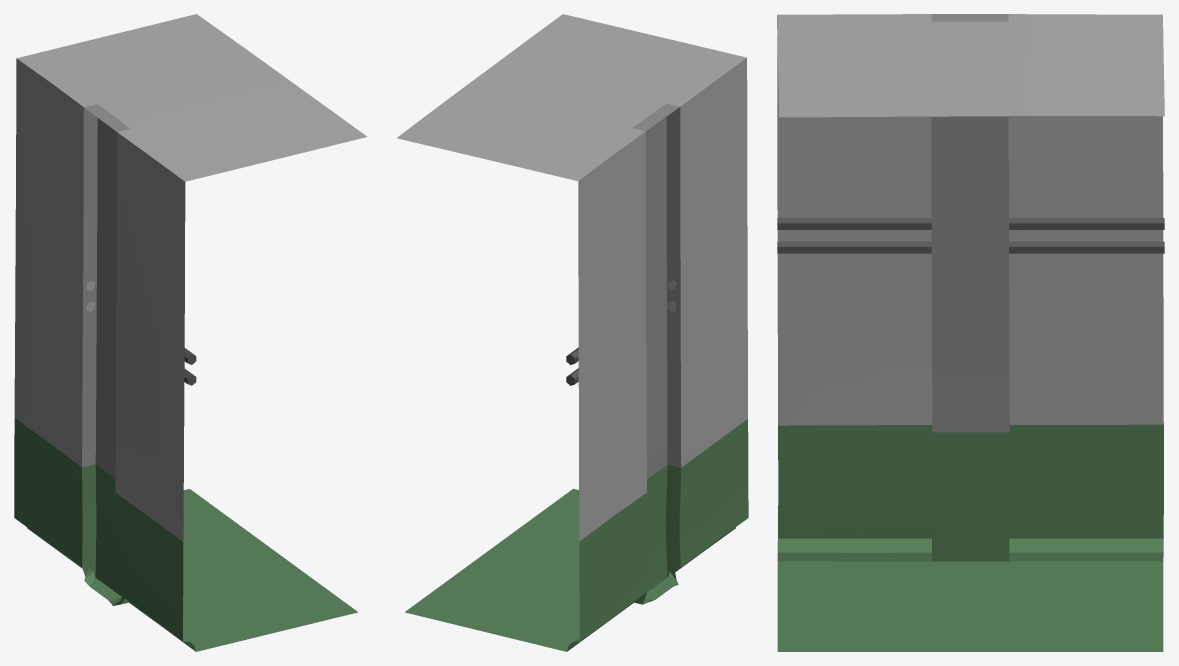
File: Mapa5.fbx
The picture shows the model from 3 angles, left to right: view 1: azimuth 30°, elevation 25°; view 2: azimuth 150°, elevation 25°; view 3: azimuth 270°, elevation 25°; orthographic projection. The views are drawn at different scales.
Parts seen in each view (by area): view 1: pPlane13; view 2: pPlane13; view 3: pPlane13.
Boxes of the visible parts, box(x1,y1,x2,y2) form: pPlane13: box(14, 14, 367, 651); pPlane13: box(396, 14, 748, 651); pPlane13: box(777, 14, 1164, 651).
Bounding box in the file's own units: 20.46 × 50.16 × 32.44.
